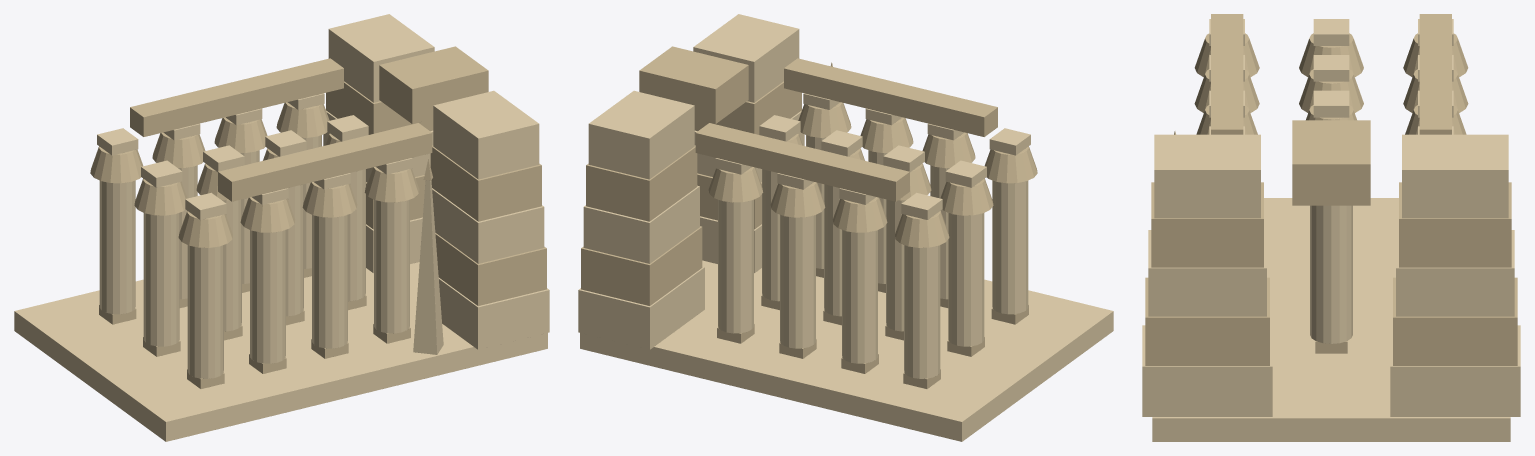
File: egyptian.glb
3 views of the same model, side by side, from view 1: azimuth 30°, elevation 25°; view 2: azimuth 150°, elevation 25°; view 3: azimuth 270°, elevation 25° (orthographic). The views are drawn at different scales.
Parts seen in each view (by area): view 1: Cube; view 2: Cube; view 3: Cube.
Boxes of the visible parts, bbox=[...] form: Cube: bbox=[14, 14, 549, 441]; Cube: bbox=[578, 14, 1113, 441]; Cube: bbox=[1142, 14, 1520, 441].
Size of the model in its own units: 8 by 4.7 by 5.8.
